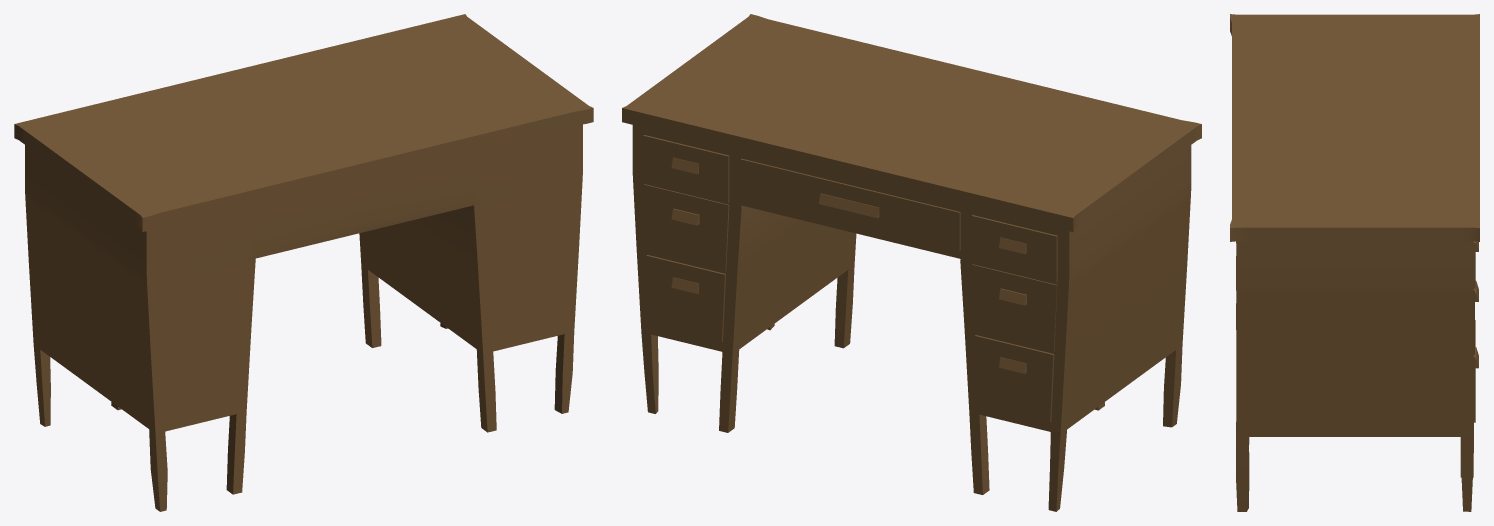
File: desk.fbx
3 renders of one model, left to right at view 1: azimuth 30°, elevation 25°; view 2: azimuth 150°, elevation 25°; view 3: azimuth 270°, elevation 25°, orthographic. The views are drawn at different scales.
Parts seen in each view (by area): view 1: Cube; view 2: Cube; view 3: Cube.
Part boxes in pixels (x1,y1,x2,y2): Cube: (14,14,593,511); Cube: (622,14,1201,511); Cube: (1230,14,1479,511).
Size of the model in its own units: 124 by 79.37 by 61.15.
